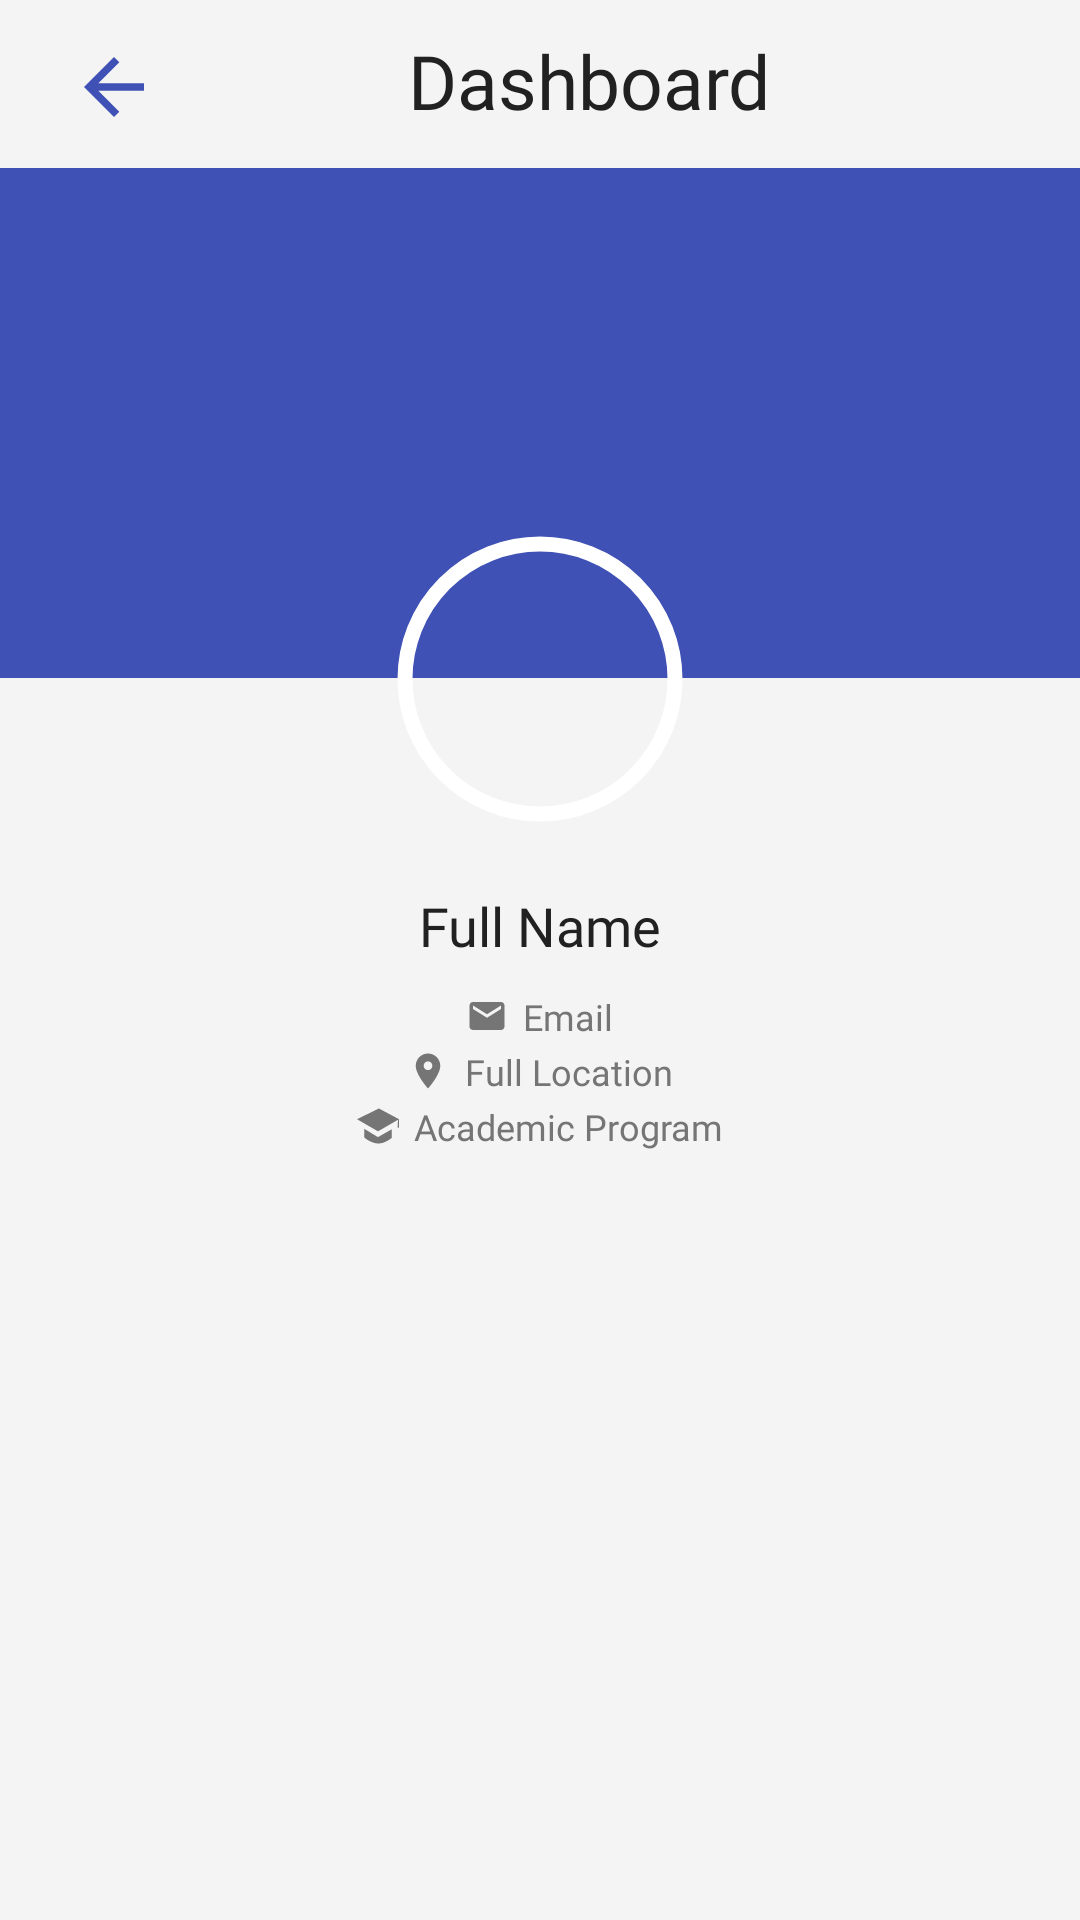

Icons on this 1080×1920 Android screen, each with its box as {"x1": x1, "y1": y1, "x2": x2, "y2": y2}:
arrow back: {"x1": 84, "y1": 57, "x2": 144, "y2": 117}
